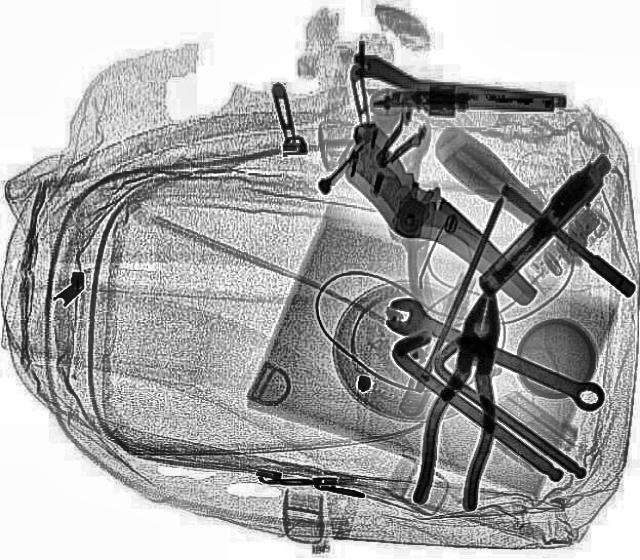Gun: (462, 149, 620, 296), (351, 51, 565, 116)
Pliers: (410, 283, 520, 512)
Wrench: (376, 289, 614, 414)
